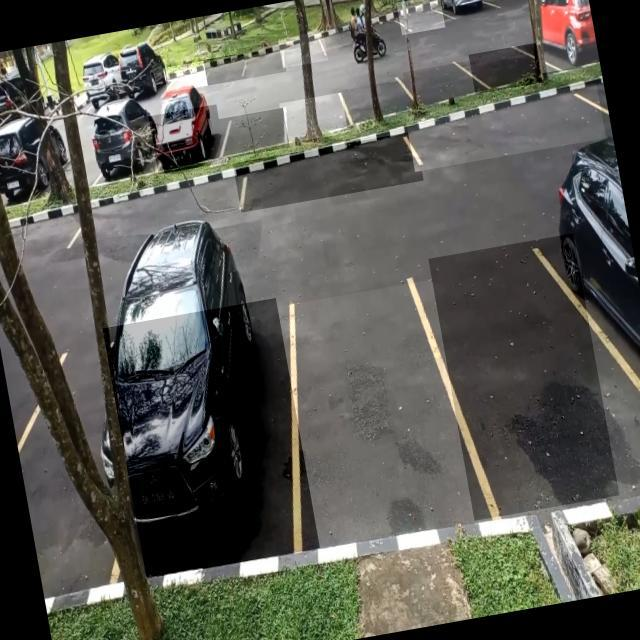empty: (272, 278, 480, 551), (428, 232, 619, 520), (405, 83, 606, 172), (232, 131, 423, 212), (402, 58, 483, 112), (468, 42, 542, 94), (278, 92, 350, 144), (218, 108, 290, 158), (340, 79, 412, 128), (236, 40, 286, 79), (278, 30, 328, 68), (396, 0, 445, 34), (198, 53, 247, 86), (163, 60, 207, 92)
occupied: (103, 297, 320, 578), (148, 104, 226, 174), (527, 0, 599, 73), (436, 0, 489, 21)
